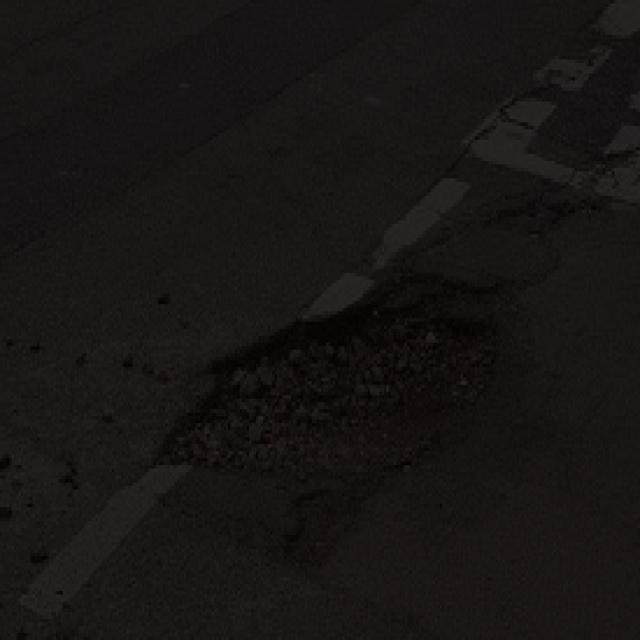Pothole: (164, 276, 502, 543), (497, 174, 592, 234)
